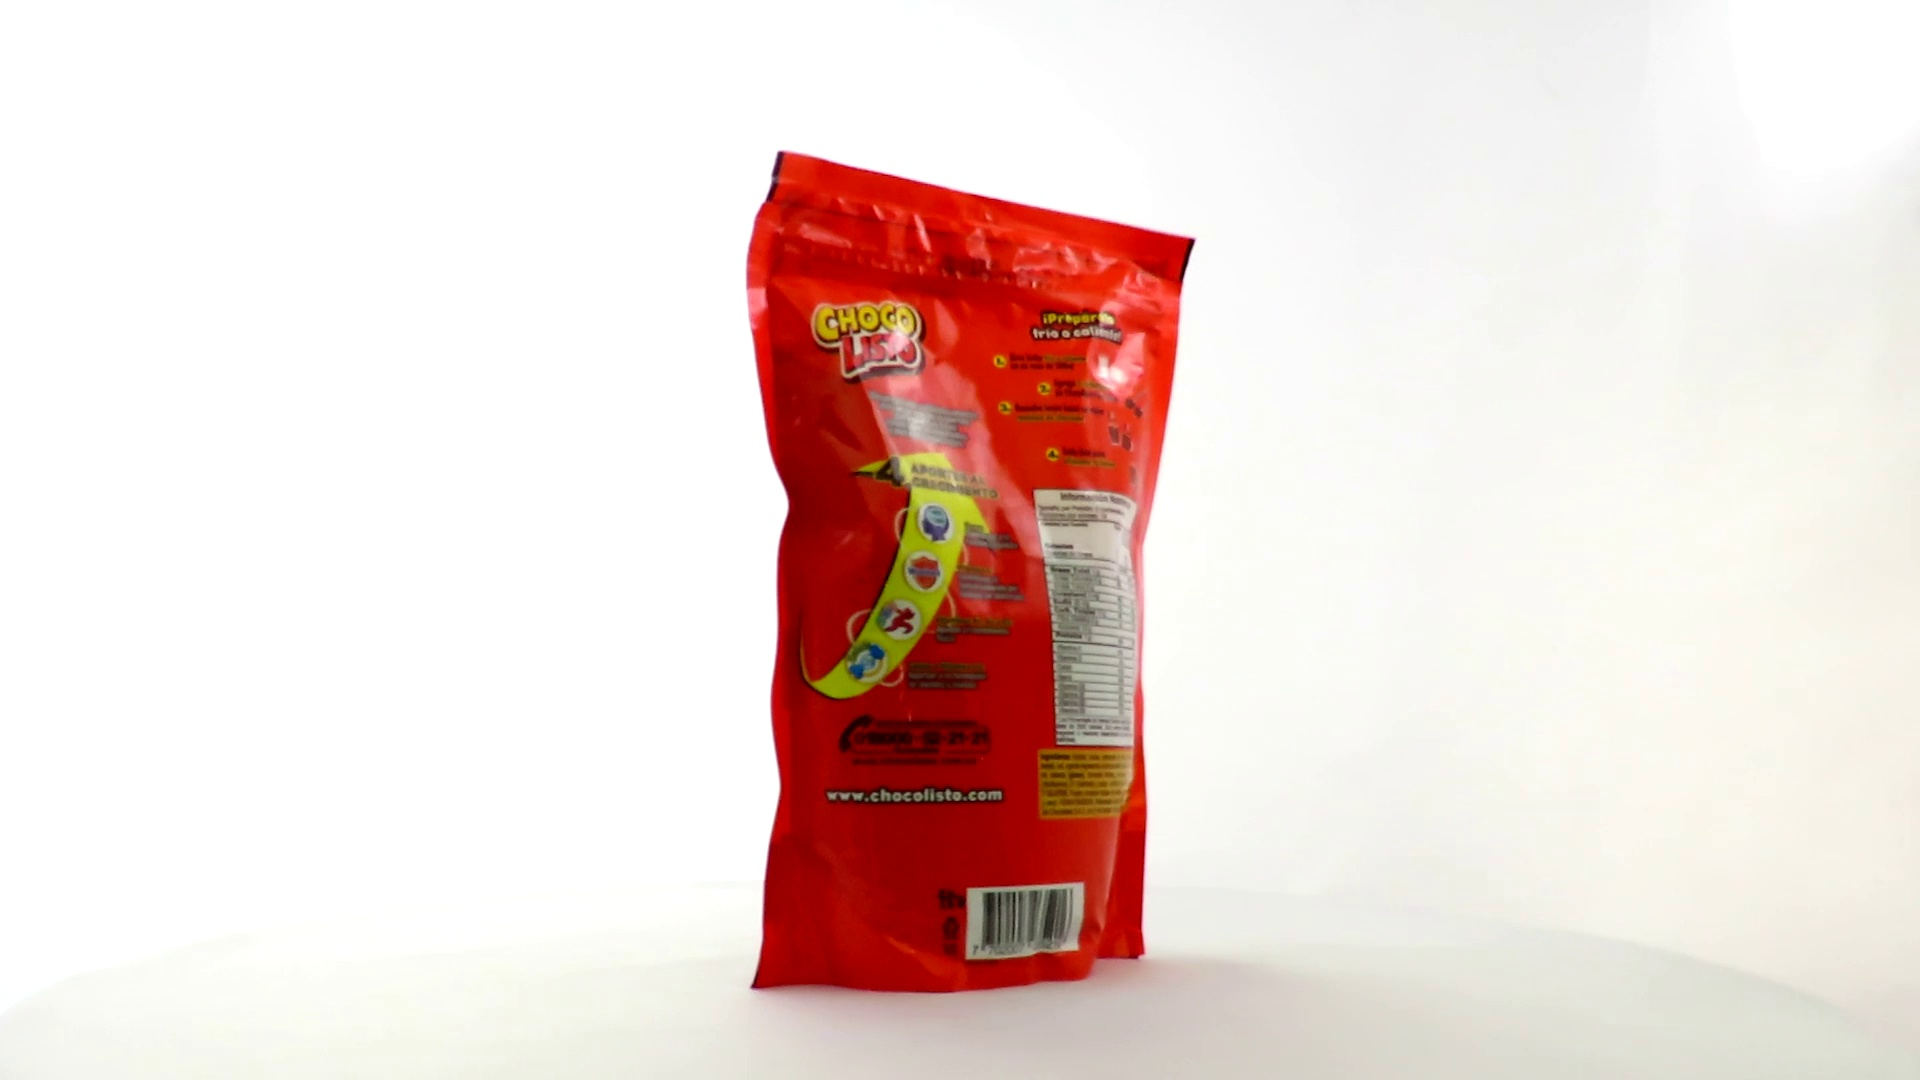COL0170103DYP36000: (741, 146, 1201, 1000)
